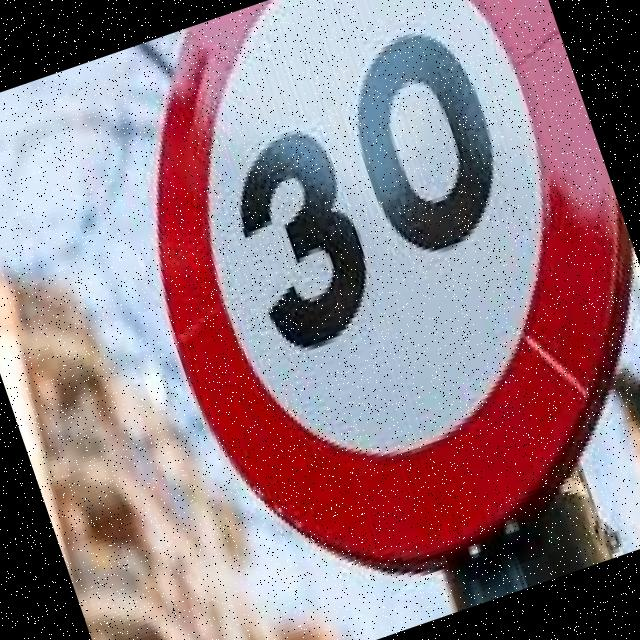speed_limit_30: (76, 0, 640, 624)
